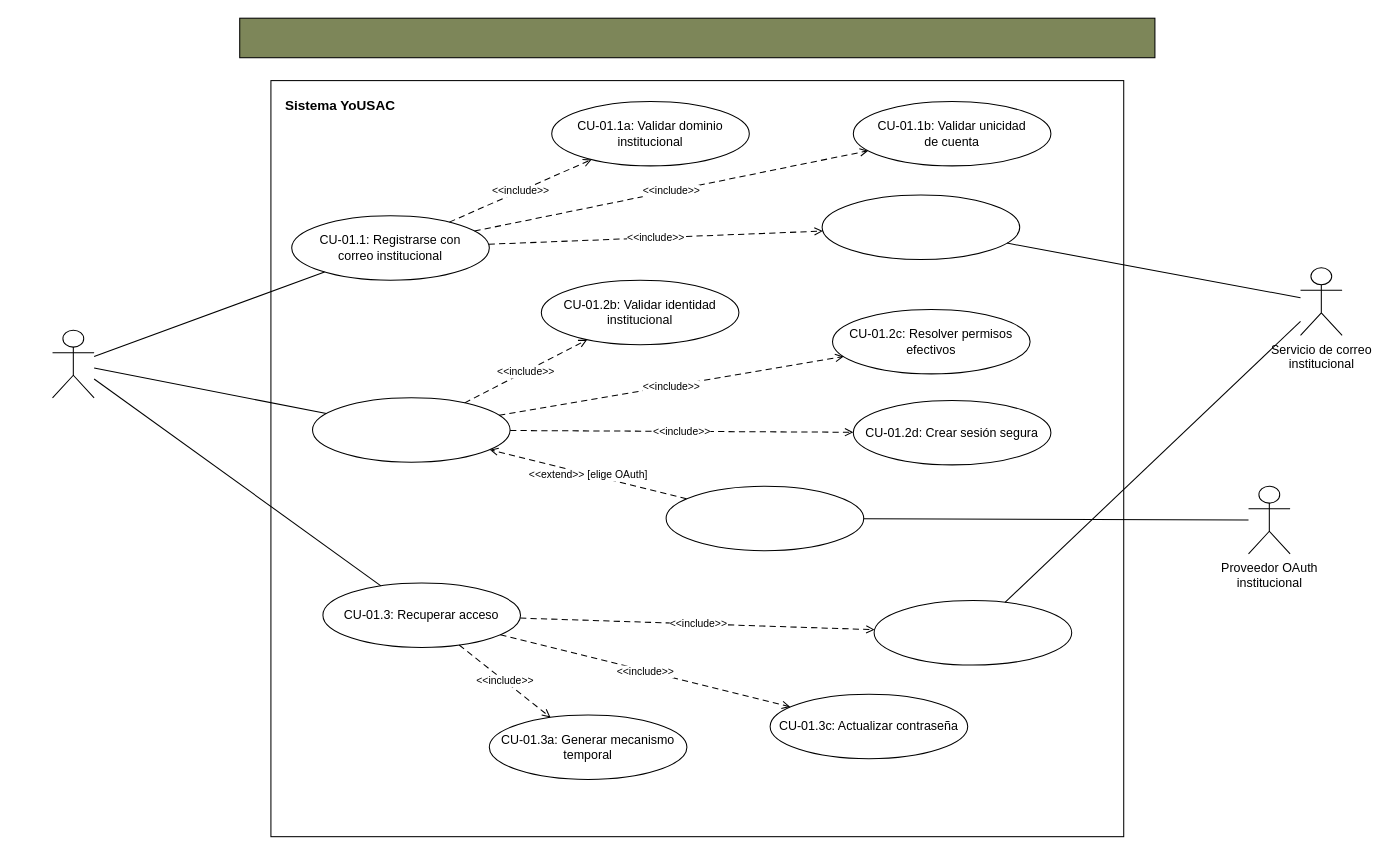
This 1389x855 diagram has some shape labels left out. Each missing label, with the centre of its shape:
CU-01.1c: Enviar confirmación de registro: (x=920, y=226)
CU-01.2: Iniciar sesión institucional: (x=410, y=429)
CU-01.2a: Autenticarse mediante OAuth: (x=764, y=518)
CU-01.3b: Enviar mecanismo de recuperación: (x=972, y=632)
Descomposición por módulo — Autenticación: (x=697, y=37)
Usuario institucional: (x=72, y=363)
